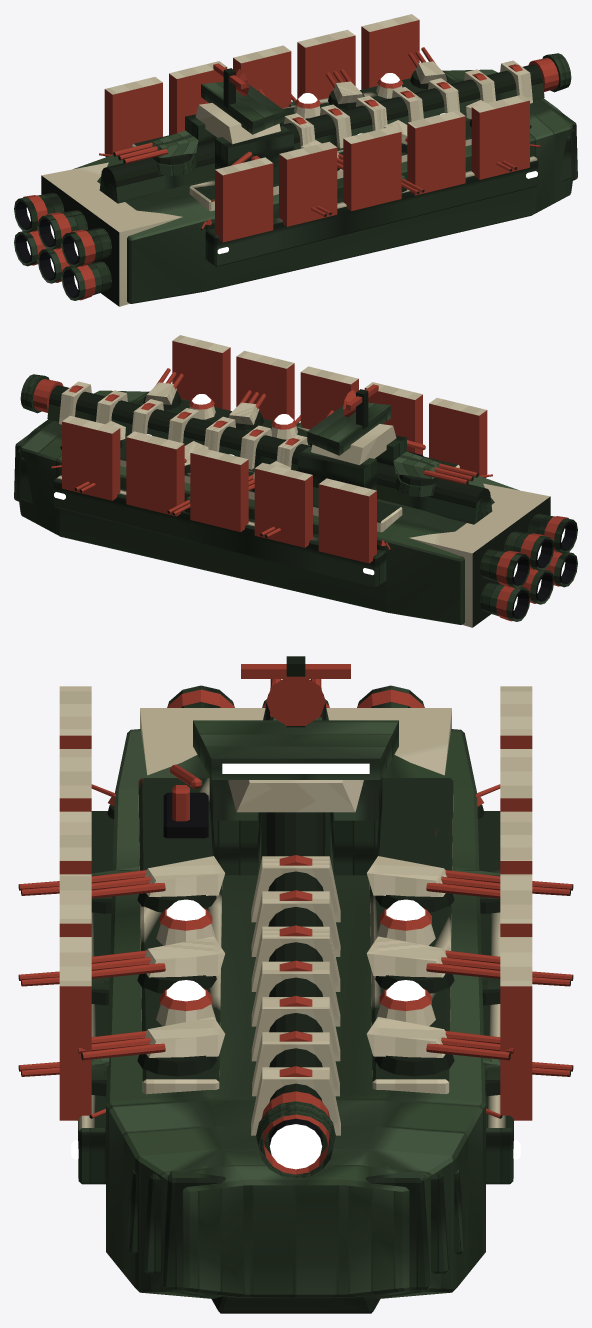
Rendered from battleship.glb.
3 renders of one model, top to bottom at view 1: azimuth 30°, elevation 25°; view 2: azimuth 150°, elevation 25°; view 3: azimuth 270°, elevation 25°, orthographic. The views are drawn at different scales.
Parts seen in each view (by area): view 1: hull_body, weapon_mounts, engine_block, sensor_tower, shield_domes; view 2: hull_body, weapon_mounts, engine_block, sensor_tower, shield_domes; view 3: hull_body, weapon_mounts, sensor_tower, engine_block, shield_domes.
Boxes of the visible parts, left/top/right/bottom form: hull_body: left=73, top=14, right=577, bottom=303; weapon_mounts: left=99, top=47, right=571, bottom=230; engine_block: left=14, top=162, right=182, bottom=306; sensor_tower: left=185, top=63, right=293, bottom=169; shield_domes: left=294, top=73, right=444, bottom=134; hull_body: left=14, top=335, right=518, bottom=624; weapon_mounts: left=20, top=368, right=492, bottom=551; engine_block: left=409, top=483, right=577, bottom=627; sensor_tower: left=298, top=384, right=406, bottom=490; shield_domes: left=147, top=394, right=297, bottom=455; hull_body: left=59, top=686, right=532, bottom=1313; weapon_mounts: left=18, top=679, right=573, bottom=1178; sensor_tower: left=193, top=656, right=398, bottom=875; engine_block: left=140, top=685, right=451, bottom=775; shield_domes: left=156, top=899, right=435, bottom=1026.
Bounding box in the file's own units: 60 × 19.7 × 27.98.
1 material, 1 textured.
